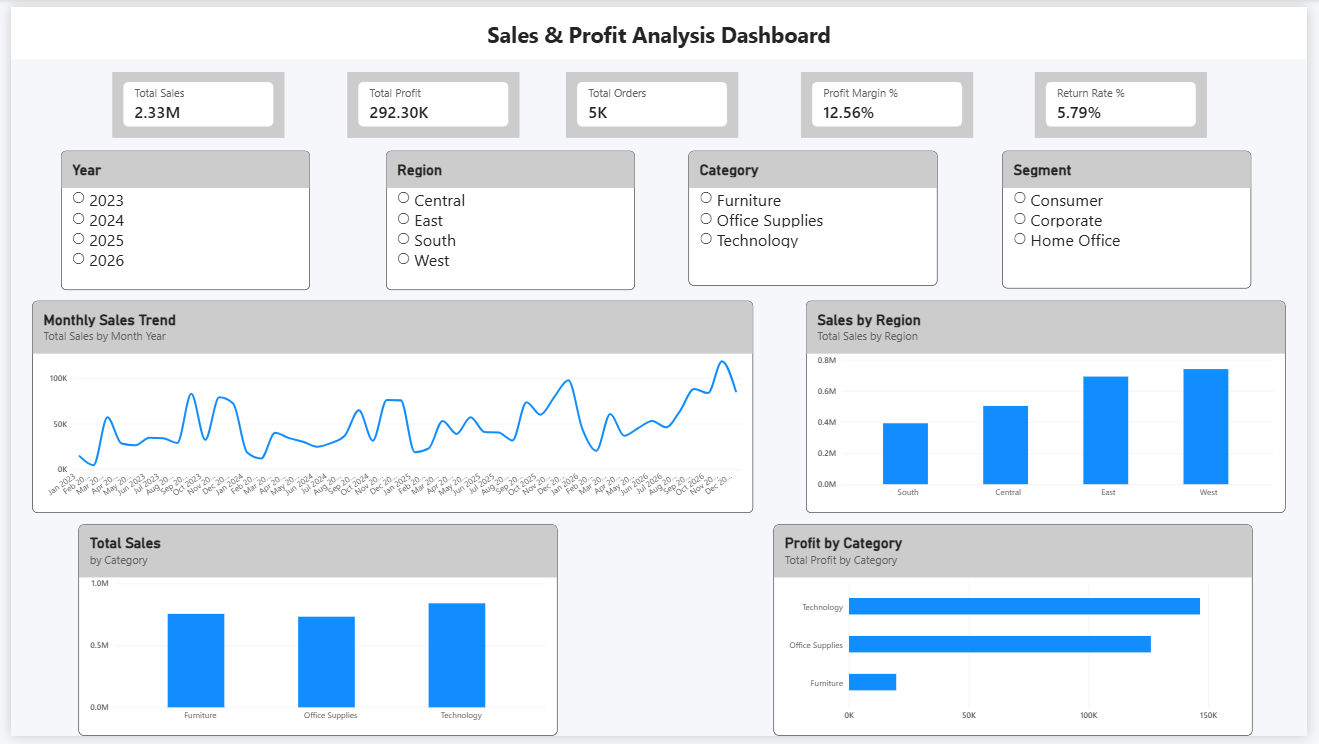

Layout of this report page (visuals, bound fields, positions):
{"tool":"powerbi","page":{"name":"Page 1","canvas":[1920,1080],"ordinal":0},"visuals":[{"type":"textbox","box":[0,0,1920.1,77.8],"z":0},{"type":"cardVisual","fields":{"Data":["Orders.Total Sales"]},"box":[149.3,95.9,255.2,97.7],"z":0,"group":"g1"},{"type":"group","id":"g1","title":"Group 1","box":[149.3,95.9,1621.5,97.7],"z":1000},{"type":"cardVisual","fields":{"Data":["Orders.Total Profit"]},"box":[496.8,95.9,255.2,97.7],"z":1000,"group":"g1"},{"type":"cardVisual","fields":{"Data":["Orders.Profit Margin %"]},"box":[1169.9,95.9,255.2,97.7],"z":2000,"group":"g1"},{"type":"group","id":"g2","title":"Group 2","box":[74.2,213.5,1764.4,206.3],"z":2000},{"type":"cardVisual","fields":{"Data":["Orders.Total Orders"]},"box":[820.7,95.9,255.2,97.7],"z":3000,"group":"g1"},{"type":"group","id":"g3","title":"Group 3","box":[32,436,1856,314],"z":3000},{"type":"cardVisual","fields":{"Data":["Orders.Return Rate %"]},"box":[1515.6,95.9,255.2,97.7],"z":4000,"group":"g1"},{"type":"group","id":"g4","title":"Group 4","box":[99.5,767.3,1739.1,313.1],"z":4000},{"type":"lineChart","title":"Monthly Sales Trend","fields":{"Category":["Orders.Month Year"],"Y":["Orders.Total Sales"]},"box":[32,436,1068,314],"z":5000,"group":"g3"},{"type":"clusteredColumnChart","title":"Sales by Region","fields":{"Category":["Orders.Region"],"Y":["Orders.Total Sales"]},"box":[1178,436,710,314],"z":6000,"group":"g3"},{"type":"clusteredColumnChart","fields":{"Category":["Orders.Category"],"Y":["Orders.Total Sales"]},"box":[99.5,767.3,709.9,313.1],"z":7000,"group":"g4"},{"type":"clusteredBarChart","title":"Profit by Category","fields":{"Category":["Orders.Category"],"Y":["Orders.Total Profit"]},"box":[1128.7,767.3,709.9,313.1],"z":8000,"group":"g4"},{"type":"listSlicer","fields":{"Values":["Orders.Order Date.Variation.Date Hierarchy.Year"]},"box":[74.2,213.5,368.8,206],"z":9000,"group":"g2"},{"type":"listSlicer","fields":{"Values":["Orders.Region"]},"box":[556.6,214.3,368.8,206],"z":10000,"group":"g2"},{"type":"listSlicer","fields":{"Values":["Orders.Category"]},"box":[1004,213.5,368.8,200],"z":11000,"group":"g2"},{"type":"listSlicer","fields":{"Values":["Orders.Segment"]},"box":[1468.9,213.5,368.8,204],"z":12000,"group":"g2"}]}

Visuals, with their boxes in screenshot pixels (x1, y1, x2, y2), scaled from the page's 1920x1080 canvas onto the 1319x744 screenshot:
textbox: rect(0, 0, 1318, 54)
cardVisual - Orders.Total Sales: rect(103, 66, 278, 133)
"Group 1" group: rect(103, 66, 1217, 133)
cardVisual - Orders.Total Profit: rect(341, 66, 517, 133)
cardVisual - Orders.Profit Margin %: rect(804, 66, 979, 133)
"Group 2" group: rect(51, 147, 1263, 289)
cardVisual - Orders.Total Orders: rect(564, 66, 739, 133)
"Group 3" group: rect(22, 300, 1297, 517)
cardVisual - Orders.Return Rate %: rect(1041, 66, 1217, 133)
"Group 4" group: rect(68, 529, 1263, 743)
"Monthly Sales Trend" lineChart: rect(22, 300, 756, 517)
"Sales by Region" clusteredColumnChart: rect(809, 300, 1297, 517)
clusteredColumnChart - Orders.Category x Orders.Total Sales: rect(68, 529, 556, 743)
"Profit by Category" clusteredBarChart: rect(775, 529, 1263, 743)
listSlicer - Orders.Order Date.Variation.Date Hierarchy.Year: rect(51, 147, 304, 289)
listSlicer - Orders.Region: rect(382, 148, 636, 290)
listSlicer - Orders.Category: rect(690, 147, 943, 285)
listSlicer - Orders.Segment: rect(1009, 147, 1262, 288)
